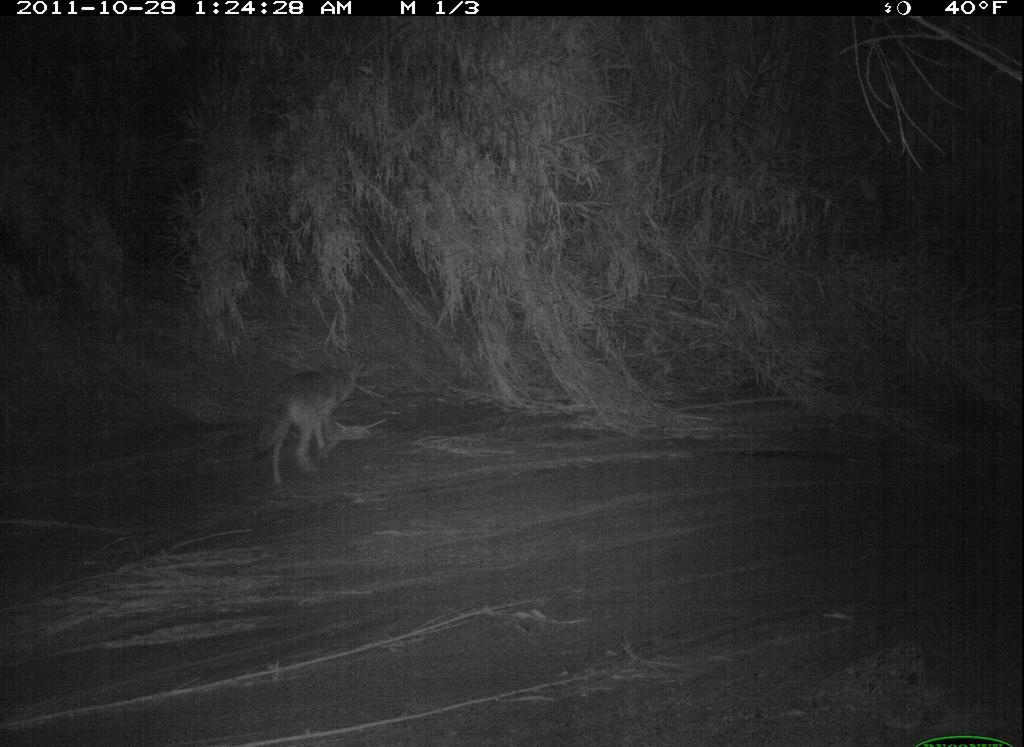coyote: (251, 358, 369, 479)
